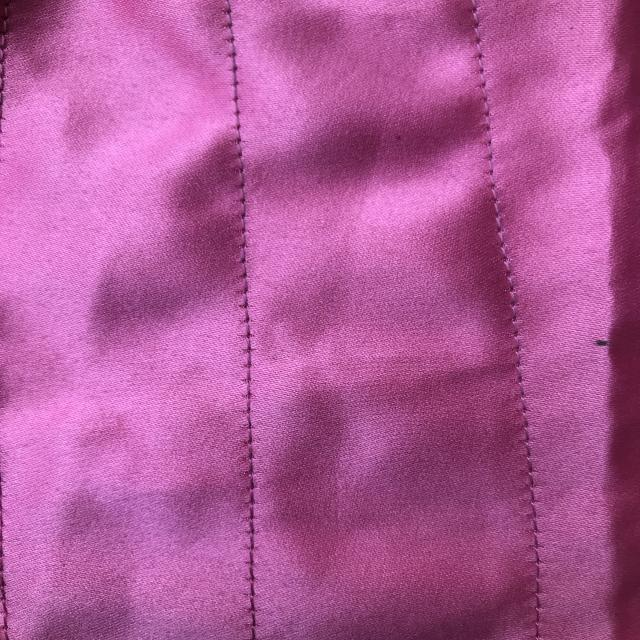good: (225, 134, 273, 280)
